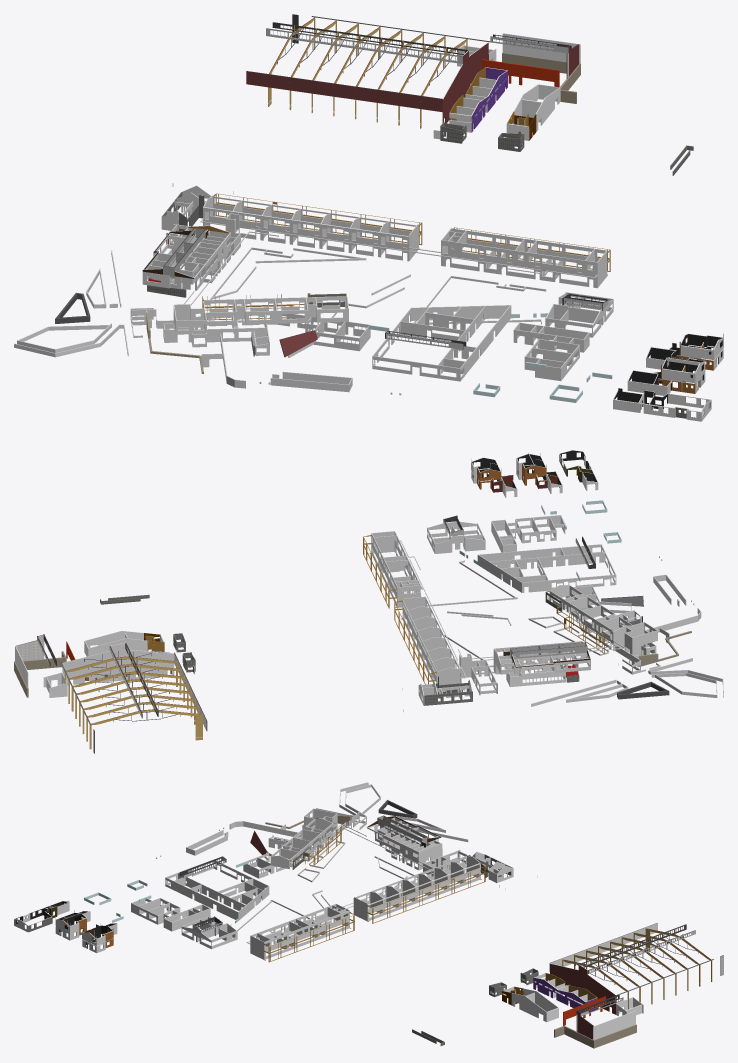
File: murs.obj
The picture shows the model from 3 angles, top to bottom: view 1: azimuth 30°, elevation 25°; view 2: azimuth 150°, elevation 25°; view 3: azimuth 270°, elevation 25°; orthographic projection. The views are drawn at different scales.
Parts seen in each view (by area): view 1: 02-GROS_OEUVRE REVET__MURS_EXT___3_ FLAT_PART, 02-GROS_OEUVRE METAL-TOLE_ONDULEE_ROUGE, 02-GROS_OEUVRE REVET__MURS_EXT_ FLAT_PART, 08-CLOTURE_VRD REVET__MURS_EXT___3_, 02-GROS_OEUVRE PEINTURE-01, 02-GROS_OEUVRE METAL-ALUMINIUM, 02-GROS_OEUVRE METAL-TOLE_ONDULEE_GRIS, 02-GROS_OEUVRE PEINTURE-04 FLAT_PART, 02-CHARPENTE BOIS-CHENE FLAT_PART, 02-GROS_OEUVRE PIERRE-MOELLON_2, 02-CHARPENTE BOIS-SOUS-TOITURE, 02-GROS_OEUVRE ENDUIT_-_BLANC_NATURE (+7 smaller); view 2: 02-GROS_OEUVRE REVET__MURS_EXT___3_ FLAT_PART, 02-GROS_OEUVRE REVET__MURS_EXT_ FLAT_PART, 02-CHARPENTE BOIS-SOUS-TOITURE, 08-CLOTURE_VRD REVET__MURS_EXT___3_, 02-GROS_OEUVRE ENDUIT_-_BLANC_NATURE, 02-GROS_OEUVRE PIERRE-MOELLON_2, 02-GROS_OEUVRE METAL-ALUMINIUM, 02-GROS_OEUVRE PEINTURE-04 FLAT_PART, 02-GROS_OEUVRE PEINTURE-01, 02-CHARPENTE BOIS-CHENE FLAT_PART, 02-GROS_OEUVRE BOIS_-_PANNEAUX_DE_PARTICULES, 02-GROS_OEUVRE BRIQUE_-_BLANCHE_NATURELLE FLAT_PART (+7 smaller); view 3: 02-GROS_OEUVRE REVET__MURS_EXT___3_ FLAT_PART, 02-GROS_OEUVRE REVET__MURS_EXT_ FLAT_PART, 02-GROS_OEUVRE METAL-ALUMINIUM, 08-CLOTURE_VRD REVET__MURS_EXT___3_, 02-GROS_OEUVRE METAL-TOLE_ONDULEE_ROUGE, 02-CHARPENTE BOIS-CHENE FLAT_PART, 02-GROS_OEUVRE PEINTURE-01, 02-CHARPENTE BOIS-SOUS-TOITURE, 02-GROS_OEUVRE METAL-TOLE_ONDULEE_GRIS, 02-GROS_OEUVRE ACOUSTIQUE, 02-GROS_OEUVRE PEINTURE-04 FLAT_PART, 08-TERRAIN_PROJET APPAREILLAGE_-_PIERRE_TAILLE (+6 smaller).
Part boxes in pixels (bbox=[...]): 02-GROS_OEUVRE REVET__MURS_EXT___3_ FLAT_PART: bbox=[130, 185, 703, 395]; 02-GROS_OEUVRE METAL-TOLE_ONDULEE_ROUGE: bbox=[246, 43, 578, 357]; 02-GROS_OEUVRE REVET__MURS_EXT_ FLAT_PART: bbox=[268, 33, 712, 372]; 08-CLOTURE_VRD REVET__MURS_EXT___3_: bbox=[14, 247, 366, 392]; 02-GROS_OEUVRE PEINTURE-01: bbox=[568, 294, 723, 421]; 02-GROS_OEUVRE METAL-ALUMINIUM: bbox=[163, 14, 608, 356]; 02-GROS_OEUVRE METAL-TOLE_ONDULEE_GRIS: bbox=[266, 25, 608, 349]; 02-GROS_OEUVRE PEINTURE-04 FLAT_PART: bbox=[614, 334, 722, 417]; 02-CHARPENTE BOIS-CHENE FLAT_PART: bbox=[212, 193, 610, 275]; 02-GROS_OEUVRE PIERRE-MOELLON_2: bbox=[162, 122, 693, 352]; 02-CHARPENTE BOIS-SOUS-TOITURE: bbox=[269, 18, 466, 95]; 02-GROS_OEUVRE ENDUIT_-_BLANC_NATURE: bbox=[156, 196, 612, 345]; 02-GROS_OEUVRE REVET__MURS_EXT___3_ FLAT_PART: bbox=[371, 459, 701, 705]; 02-GROS_OEUVRE REVET__MURS_EXT_ FLAT_PART: bbox=[15, 460, 542, 737]; 02-CHARPENTE BOIS-SOUS-TOITURE: bbox=[66, 650, 200, 725]; 08-CLOTURE_VRD REVET__MURS_EXT___3_: bbox=[442, 574, 723, 706]; 02-GROS_OEUVRE ENDUIT_-_BLANC_NATURE: bbox=[403, 521, 640, 686]; 02-GROS_OEUVRE PIERRE-MOELLON_2: bbox=[100, 594, 640, 705]; 02-GROS_OEUVRE METAL-ALUMINIUM: bbox=[37, 515, 642, 753]; 02-GROS_OEUVRE PEINTURE-04 FLAT_PART: bbox=[472, 450, 597, 491]; 02-GROS_OEUVRE PEINTURE-01: bbox=[471, 450, 598, 497]; 02-CHARPENTE BOIS-CHENE FLAT_PART: bbox=[363, 535, 437, 684]; 02-GROS_OEUVRE BOIS_-_PANNEAUX_DE_PARTICULES: bbox=[64, 661, 202, 749]; 02-GROS_OEUVRE BRIQUE_-_BLANCHE_NATURELLE FLAT_PART: bbox=[510, 642, 586, 658]; 02-GROS_OEUVRE REVET__MURS_EXT___3_ FLAT_PART: bbox=[49, 808, 513, 959]; 02-GROS_OEUVRE REVET__MURS_EXT_ FLAT_PART: bbox=[502, 949, 649, 1040]; 02-GROS_OEUVRE METAL-ALUMINIUM: bbox=[179, 815, 723, 1016]; 08-CLOTURE_VRD REVET__MURS_EXT___3_: bbox=[186, 782, 468, 901]; 02-GROS_OEUVRE METAL-TOLE_ONDULEE_ROUGE: bbox=[250, 831, 615, 1039]; 02-CHARPENTE BOIS-CHENE FLAT_PART: bbox=[264, 862, 485, 962]; 02-GROS_OEUVRE PEINTURE-01: bbox=[14, 900, 117, 953]; 02-CHARPENTE BOIS-SOUS-TOITURE: bbox=[563, 928, 710, 991]; 02-GROS_OEUVRE METAL-TOLE_ONDULEE_GRIS: bbox=[184, 857, 723, 1016]; 02-GROS_OEUVRE ACOUSTIQUE: bbox=[550, 923, 657, 966]; 02-GROS_OEUVRE PEINTURE-04 FLAT_PART: bbox=[15, 901, 116, 949]; 08-TERRAIN_PROJET APPAREILLAGE_-_PIERRE_TAILLE: bbox=[554, 1024, 636, 1048].
Bounding box in the file's own units: 203 × 15.49 × 246.
